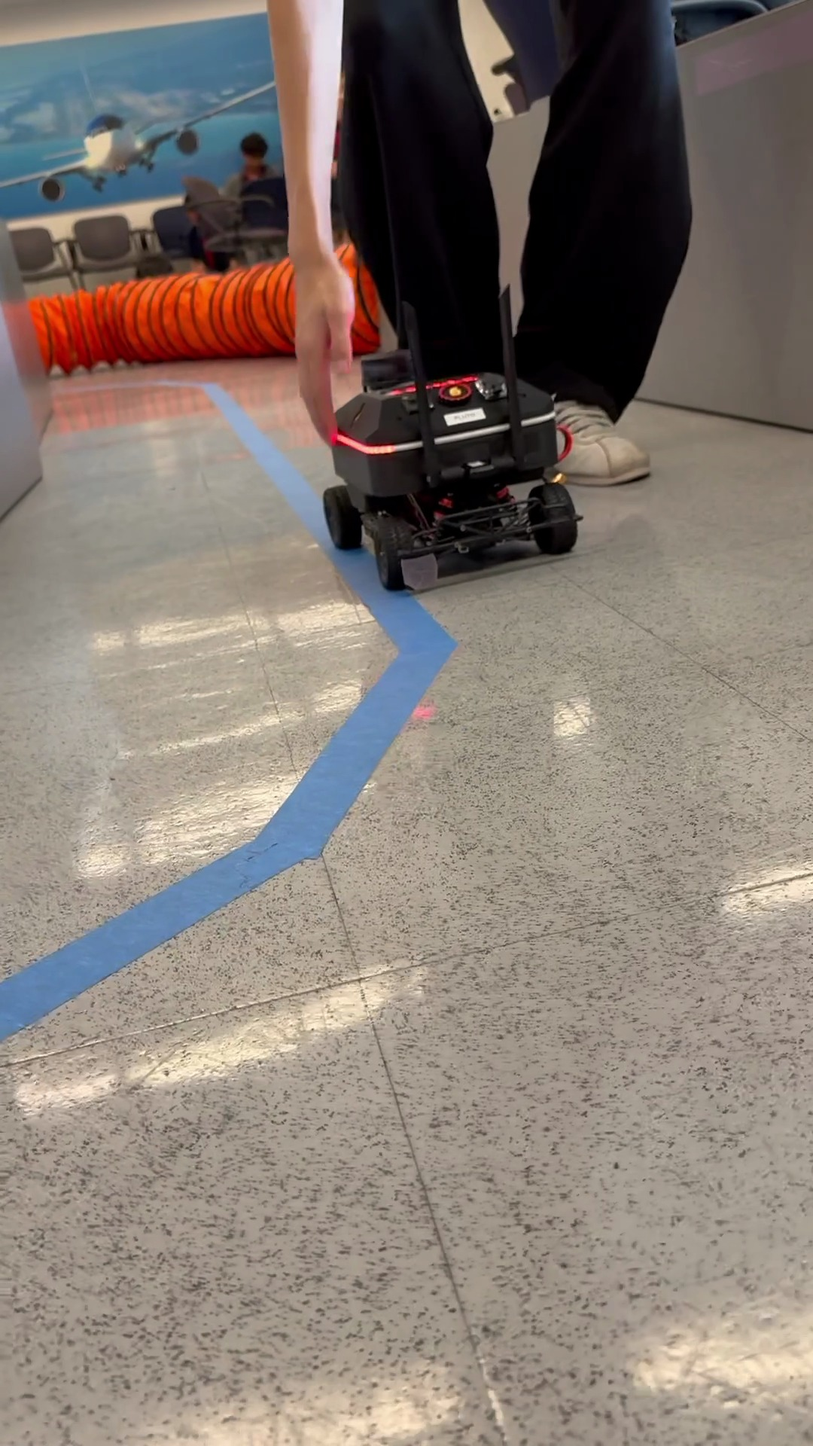racecar: (321, 274, 580, 593)
